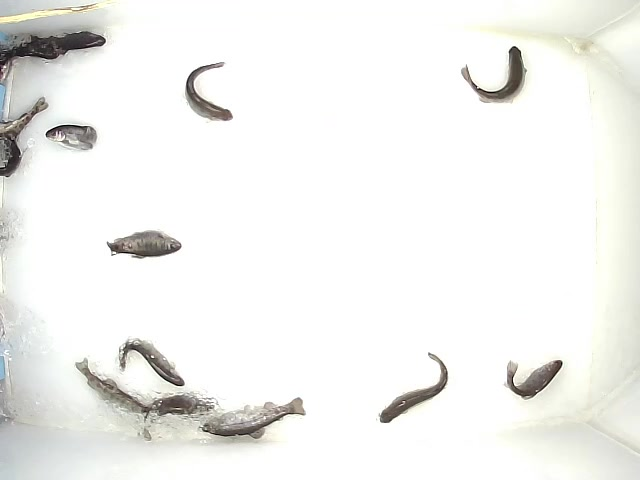fish: (379, 350, 449, 424), (199, 396, 307, 439), (74, 357, 151, 414), (459, 43, 527, 106), (136, 393, 219, 442), (117, 336, 185, 388), (183, 59, 234, 123), (502, 359, 563, 402), (104, 229, 182, 259), (42, 120, 98, 153)
